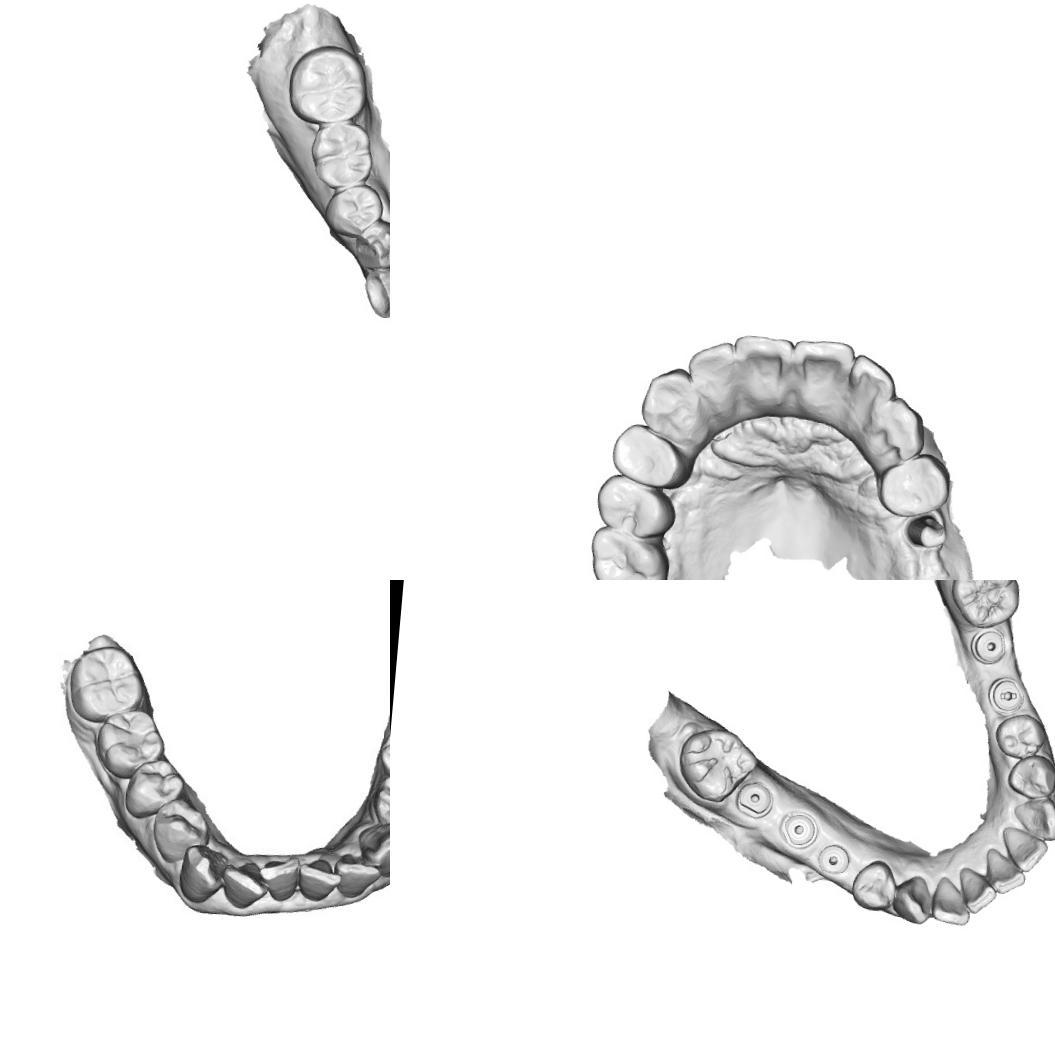abutment: (906, 510, 952, 554)
canine: (636, 364, 700, 444), (869, 393, 926, 461), (176, 842, 228, 907), (352, 817, 390, 880), (891, 871, 933, 926), (1009, 794, 1055, 844), (359, 264, 390, 321)
implant: (734, 776, 774, 818), (970, 626, 1007, 666), (781, 810, 818, 849), (816, 840, 852, 878)
implant_minus: (986, 674, 1028, 717)
incisor: (732, 332, 799, 402), (786, 338, 854, 402), (684, 340, 744, 408), (848, 352, 898, 414), (255, 850, 306, 908), (997, 820, 1050, 875), (218, 856, 270, 912), (927, 873, 973, 927), (330, 851, 378, 901), (980, 846, 1026, 896), (953, 864, 996, 916), (296, 855, 342, 903)
molar: (284, 40, 370, 128), (672, 719, 758, 806), (66, 638, 152, 724), (585, 524, 675, 580), (307, 118, 376, 190), (944, 580, 1022, 631)
premolar: (90, 704, 170, 781), (604, 420, 683, 489), (596, 473, 674, 542), (880, 450, 953, 519), (148, 792, 211, 867), (320, 180, 386, 240), (121, 758, 182, 822), (992, 710, 1052, 764), (848, 856, 898, 916), (1004, 751, 1055, 802), (351, 218, 390, 271), (369, 772, 390, 837), (376, 722, 390, 785)
